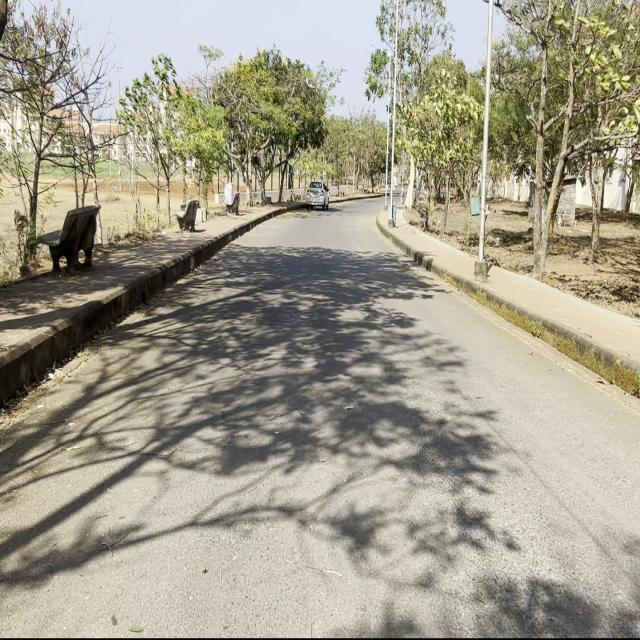Object: (302, 174, 332, 224)
Road: (4, 202, 633, 633)
